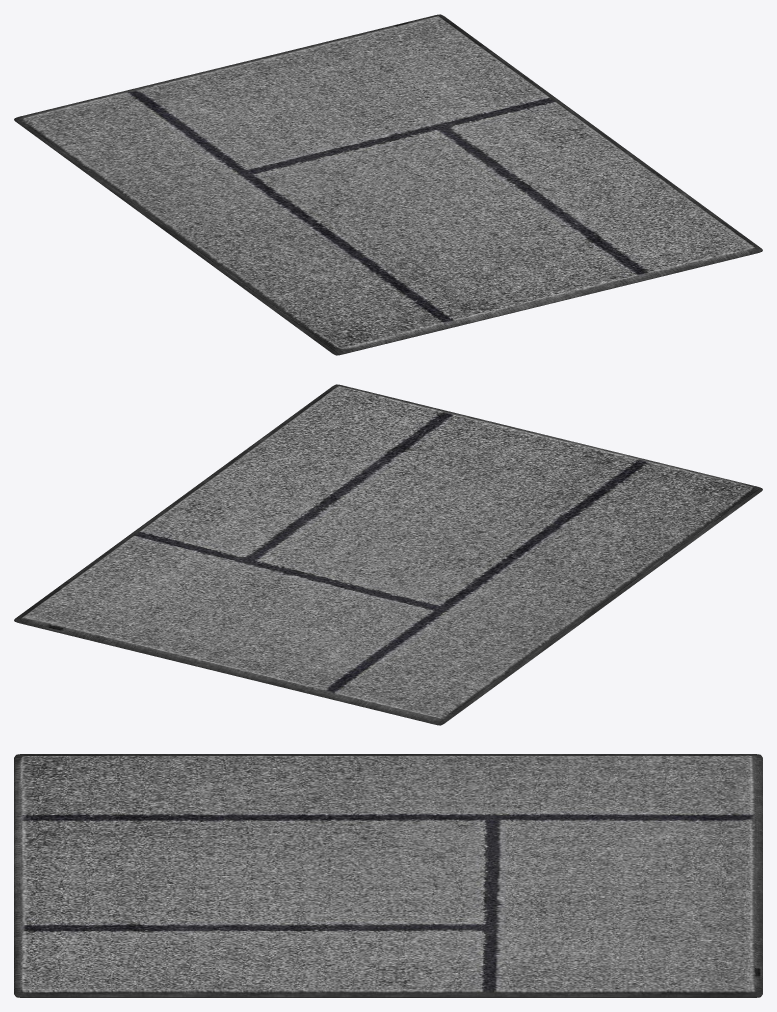
File: 05 - KÖGE Door mat - greyblack 69x90 cm.glb
3 views of the same model, one above another, from view 1: azimuth 30°, elevation 25°; view 2: azimuth 150°, elevation 25°; view 3: azimuth 270°, elevation 25° (orthographic). The views are drawn at different scales.
Parts seen in each view (by area): view 1: Mesh_0; view 2: Mesh_0; view 3: Mesh_0.
Part boxes in pixels (<box>): Mesh_0: <box>14,14,762,355</box>; Mesh_0: <box>14,384,762,725</box>; Mesh_0: <box>14,754,762,997</box>.
Bounding box in the file's own units: 0.69 × 0.00599 × 0.9.
Materials: 1 (1 with a texture image).
